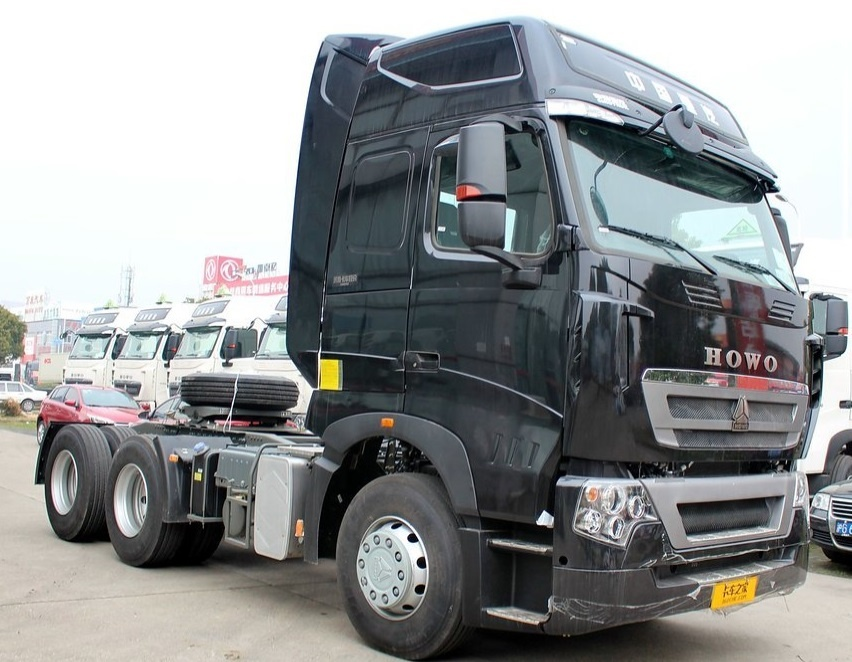heavy truck: (44, 33, 828, 654)
